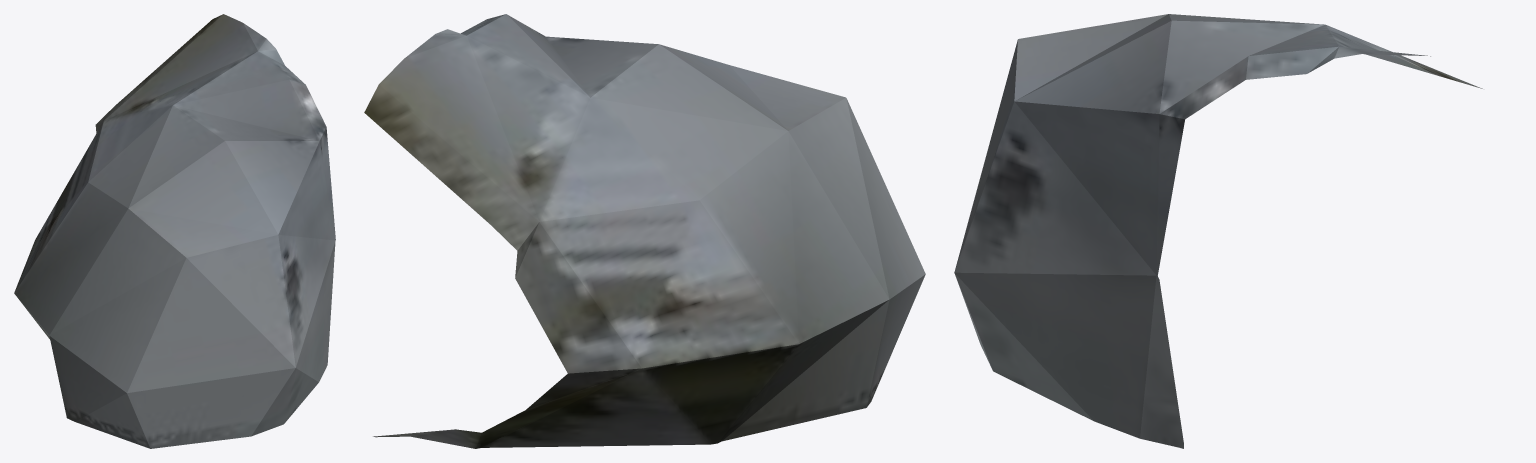
The picture shows the model from 3 angles, left to right: view 1: azimuth 30°, elevation 25°; view 2: azimuth 150°, elevation 25°; view 3: azimuth 270°, elevation 25°; orthographic projection. The views are drawn at different scales.
Bounding box in the file's own units: 0.5378 × 0.4885 × 0.636.
Materials: 1 (1 with a texture image).
